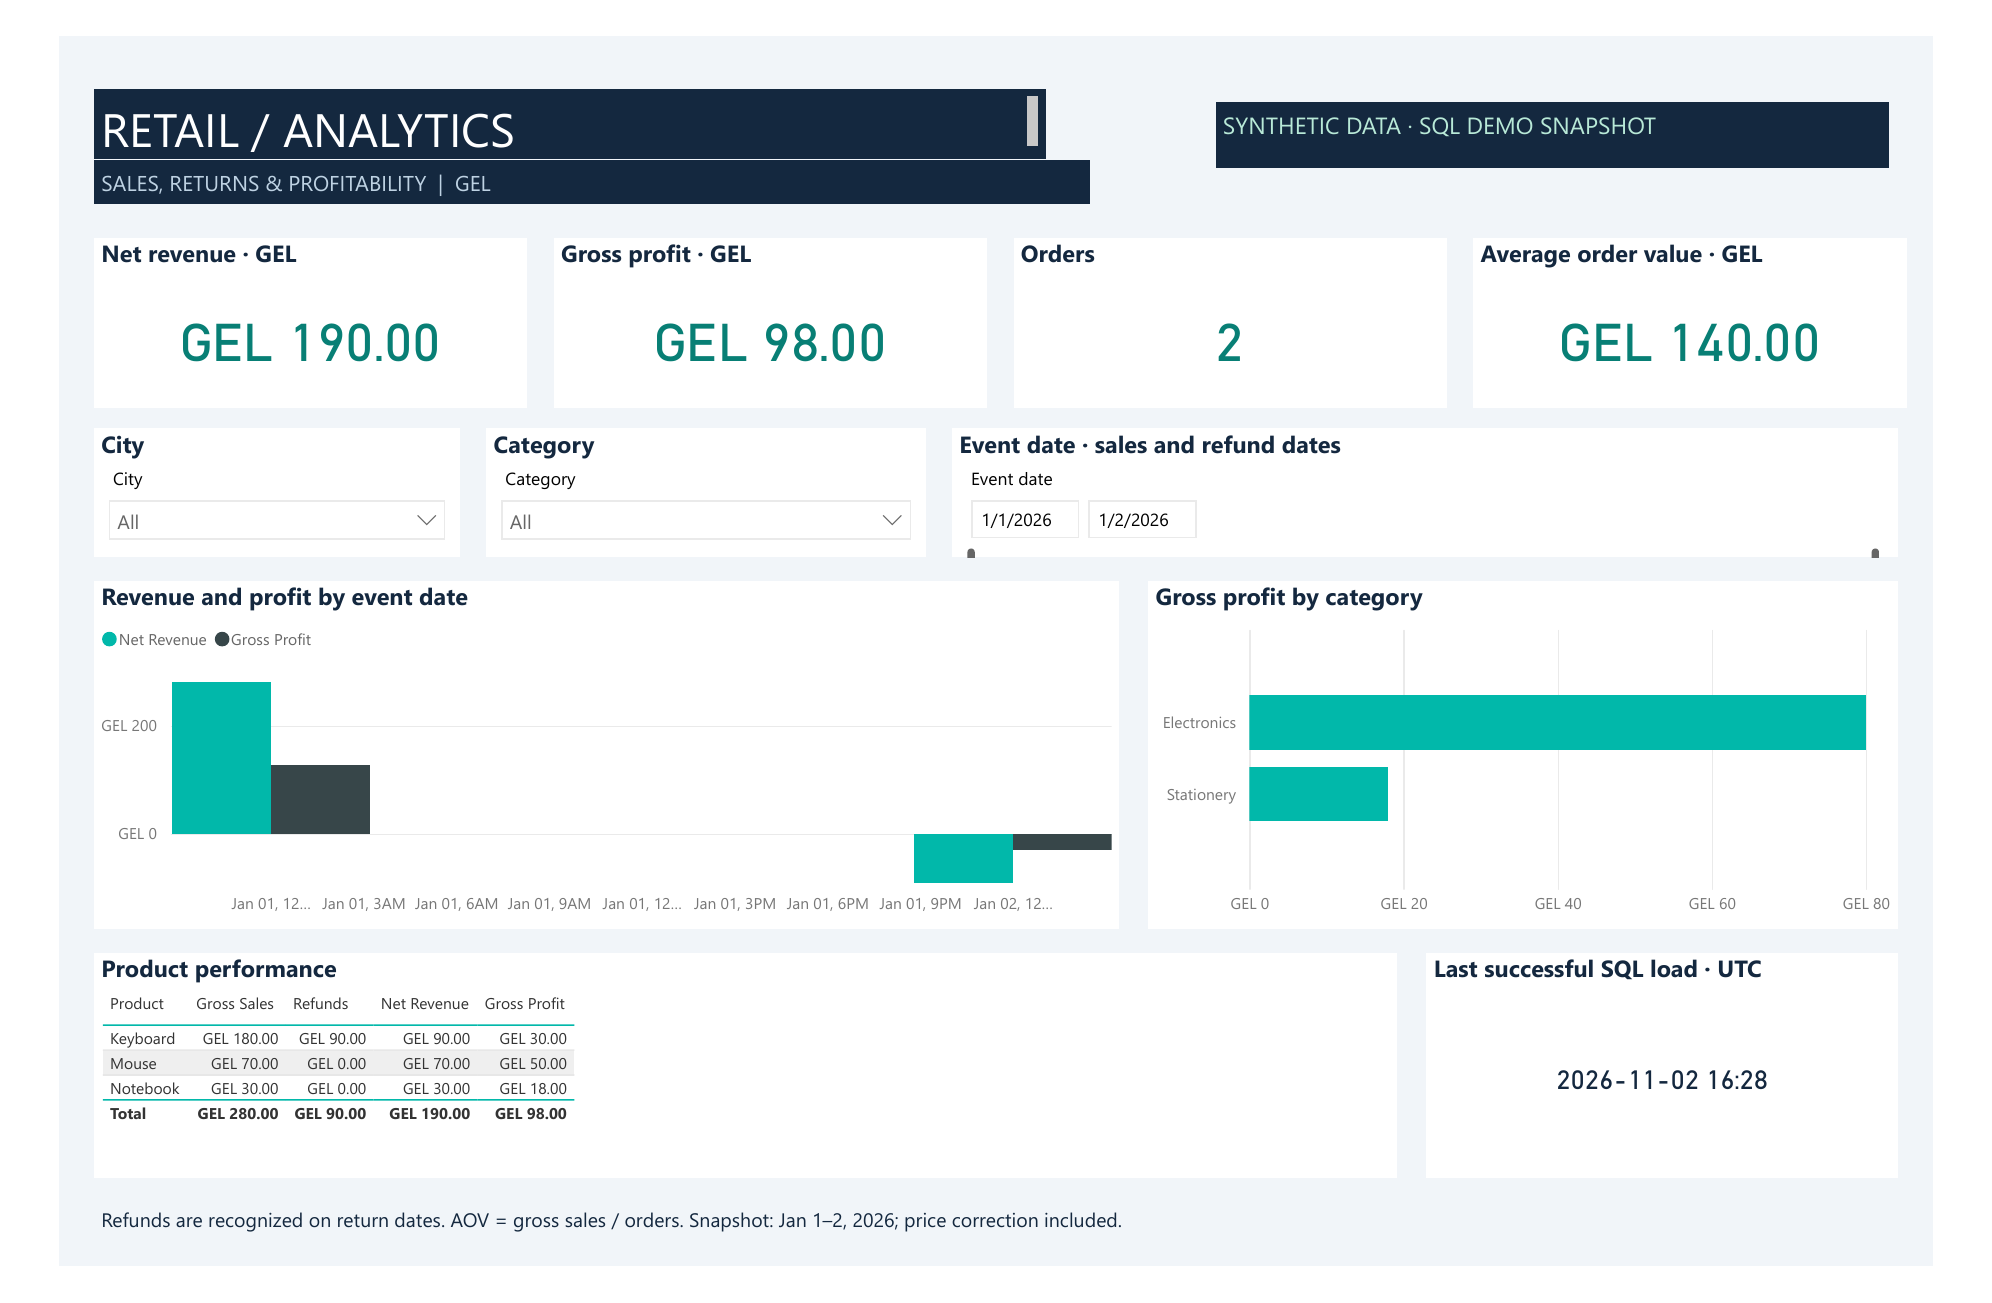

Layout of this report page (visuals, bound fields, positions):
{"tool":"powerbi","page":{"name":"Retail Overview","canvas":[1280,820],"ordinal":0},"visuals":[{"type":"textbox","box":[24,16,650,48],"z":1},{"type":"textbox","box":[24,65,680,30],"z":2},{"type":"textbox","box":[790,25,460,45],"z":3},{"type":"card","title":"Net revenue · GEL","fields":{"Values":["Metrics.Net Revenue"]},"box":[24,118,296,116],"z":4},{"type":"card","title":"Gross profit · GEL","fields":{"Values":["Metrics.Gross Profit"]},"box":[338,118,296,116],"z":5},{"type":"card","title":"Orders","fields":{"Values":["Metrics.Orders"]},"box":[652,118,296,116],"z":6},{"type":"card","title":"Average order value · GEL","fields":{"Values":["Metrics.Average Order Value"]},"box":[966,118,296,116],"z":7},{"type":"slicer","title":"City","fields":{"Values":["Customers.city"]},"box":[24,248,250,88],"z":8},{"type":"slicer","title":"Category","fields":{"Values":["Products.category"]},"box":[292,248,300,88],"z":9},{"type":"slicer","title":"Event date · sales and refund dates","fields":{"Values":["Dates.date_id"]},"box":[610,248,646,88],"z":10},{"type":"clusteredColumnChart","title":"Revenue and profit by event date","fields":{"Category":["Dates.date_id"],"Y":["Metrics.Net Revenue","Metrics.Gross Profit"]},"box":[24,352,700,238],"z":11},{"type":"barChart","title":"Gross profit by category","fields":{"Category":["Products.category"],"Y":["Metrics.Gross Profit"]},"box":[744,352,512,238],"z":12},{"type":"tableEx","title":"Product performance","fields":{"Values":["Products.product_name","Metrics.Gross Sales","Metrics.Refunds","Metrics.Net Revenue","Metrics.Gross Profit"]},"box":[24,606,890,154],"z":13},{"type":"card","title":"Last successful SQL load · UTC","fields":{"Values":["Metrics.Last Successful Load (UTC)"]},"box":[934,606,322,154],"z":14},{"type":"textbox","box":[24,774,1232,30],"z":15}]}

Visuals, with their boxes in screenshot pixels (x1, y1, x2, y2), scaled from the page's 1280x820 canvas onto the 1992x1303 screenshot:
textbox: box(37, 25, 1049, 102)
textbox: box(37, 103, 1096, 151)
textbox: box(1229, 40, 1945, 111)
"Net revenue · GEL" card: box(37, 188, 498, 372)
"Gross profit · GEL" card: box(526, 188, 987, 372)
"Orders" card: box(1015, 188, 1475, 372)
"Average order value · GEL" card: box(1503, 188, 1964, 372)
"City" slicer: box(37, 394, 426, 534)
"Category" slicer: box(454, 394, 921, 534)
"Event date · sales and refund dates" slicer: box(949, 394, 1955, 534)
"Revenue and profit by event date" clusteredColumnChart: box(37, 559, 1127, 938)
"Gross profit by category" barChart: box(1158, 559, 1955, 938)
"Product performance" tableEx: box(37, 963, 1422, 1208)
"Last successful SQL load · UTC" card: box(1454, 963, 1955, 1208)
textbox: box(37, 1230, 1955, 1278)
